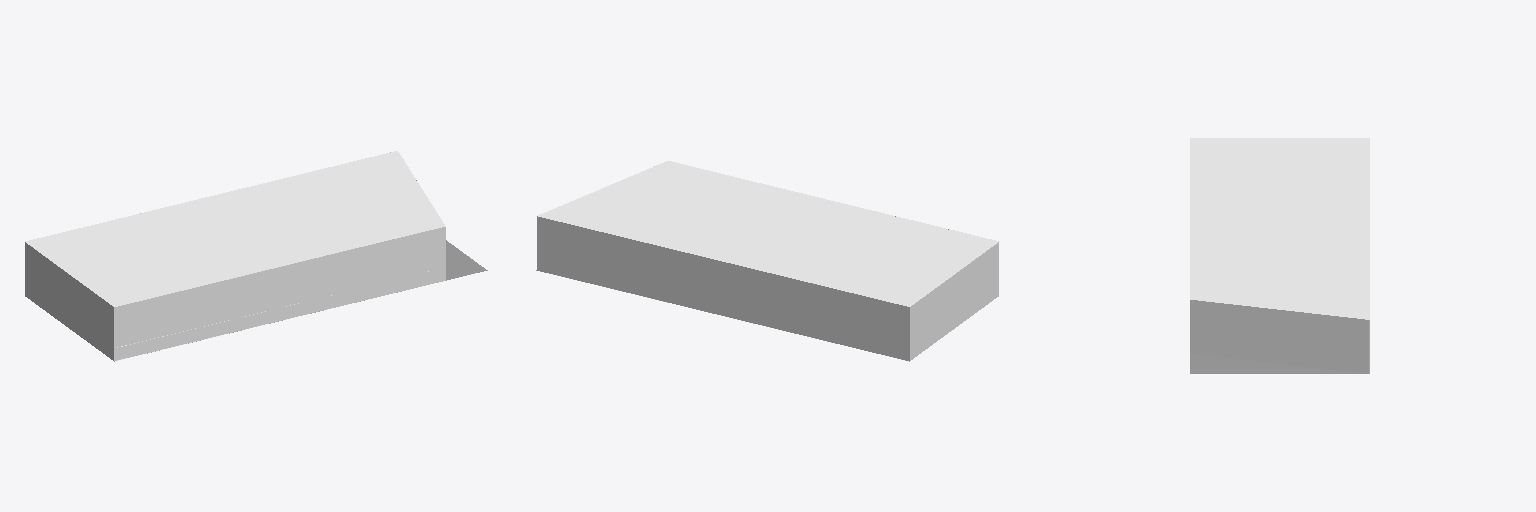
File: HoweAtrium_simpleV2.obj
The picture shows the model from 3 angles: view 1: azimuth 30°, elevation 25°; view 2: azimuth 150°, elevation 25°; view 3: azimuth 270°, elevation 25°; orthographic projection.
Visible parts, largest first — view 1: room_37_190, wall_30_178, wall_2_10, ground_1; view 2: room_37_190, wall_1_4, wall_2_10; view 3: room_37_190, wall_29_172, ground_1.
Part boxes in pixels (x1,y1,x2,y2): room_37_190: (26,151,444,306); wall_30_178: (114,227,445,360); wall_2_10: (25,242,113,360); ground_1: (114,240,487,361); room_37_190: (539,161,999,306); wall_1_4: (537,216,909,360); wall_2_10: (910,242,998,360); room_37_190: (1190,138,1368,319); wall_29_172: (1190,300,1368,373); ground_1: (1190,354,1363,373).
Bounding box in the file's own units: 10989 × 1524 × 4591.